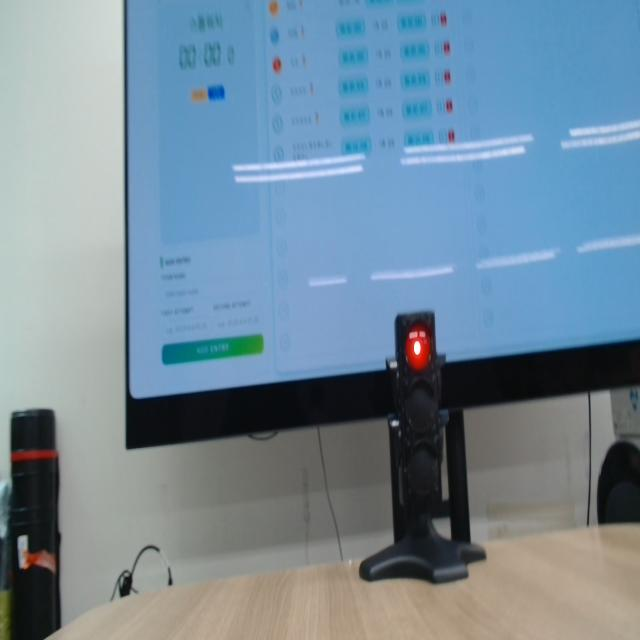red_light: (405, 325, 431, 372)
